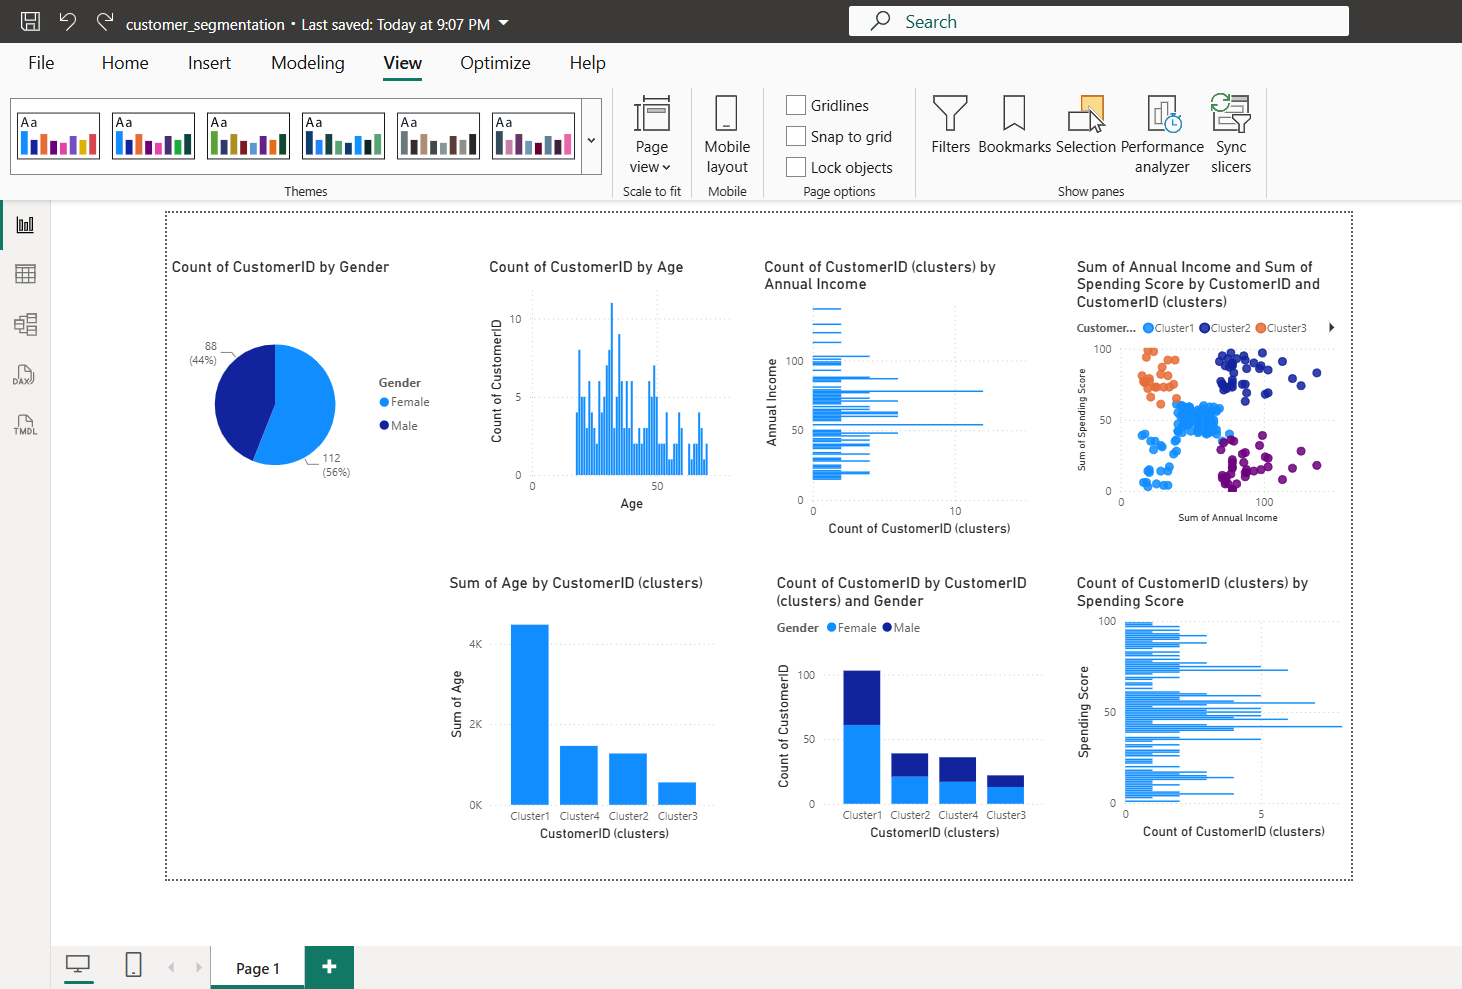

What the dashboard file says about the page in this screenshot:
{"tool":"powerbi","page":{"name":"Page 1","canvas":[1280,720],"ordinal":0},"visuals":[{"type":"clusteredColumnChart","fields":{"Category":["Mall_Customers.Age"],"Y":["CountNonNull(Mall_Customers.CustomerID)"]},"box":[343.8,47.5,280,280],"z":0},{"type":"pieChart","fields":{"Category":["Mall_Customers.Gender"],"Y":["CountNonNull(Mall_Customers.CustomerID)"]},"box":[0,47.5,300,301.2],"z":1},{"type":"scatterChart","fields":{"X":["Sum(Mall_Customers.Annual Income)"],"Y":["Sum(Mall_Customers.Spending Score)"],"Category":["Mall_Customers.CustomerID"],"Series":["Mall_Customers.CustomerID (clusters)"]},"box":[978.4,47.3,300,293.2],"z":2},{"type":"clusteredBarChart","fields":{"Y":["CountNonNull(Mall_Customers.CustomerID (clusters))"],"Category":["Mall_Customers.Annual Income"]},"box":[640.5,47.3,300,306.8],"z":3},{"type":"clusteredBarChart","fields":{"Y":["CountNonNull(Mall_Customers.CustomerID (clusters))"],"Category":["Mall_Customers.Spending Score"]},"box":[978.8,388.8,301.2,292.5],"z":4},{"type":"columnChart","fields":{"Category":["Mall_Customers.CustomerID (clusters)"],"Series":["Mall_Customers.Gender"],"Y":["CountNonNull(Mall_Customers.CustomerID)"]},"box":[654.1,389.2,300,293.2],"z":5},{"type":"columnChart","fields":{"Category":["Mall_Customers.CustomerID (clusters)"],"Y":["Sum(Mall_Customers.Age)"]},"box":[300,389.2,300,294.6],"z":6}]}

Visuals, with their boxes on the page's 1280x720 design canvas (x1, y1, x2, y2). These are canvas units, not pixel positions in the 1462x989 screenshot, which may show the page scaled, cropped or inside an application window:
clusteredColumnChart - Mall_Customers.Age x CountNonNull(Mall_Customers.CustomerID): box(344, 48, 624, 328)
pieChart - Mall_Customers.Gender x CountNonNull(Mall_Customers.CustomerID): box(0, 48, 300, 349)
scatterChart - Sum(Mall_Customers.Annual Income) x Sum(Mall_Customers.Spending Score): box(978, 47, 1278, 340)
clusteredBarChart - CountNonNull(Mall_Customers.CustomerID (clusters)) x Mall_Customers.Annual Income: box(640, 47, 940, 354)
clusteredBarChart - CountNonNull(Mall_Customers.CustomerID (clusters)) x Mall_Customers.Spending Score: box(979, 389, 1280, 681)
columnChart - Mall_Customers.CustomerID (clusters) x Mall_Customers.Gender: box(654, 389, 954, 682)
columnChart - Mall_Customers.CustomerID (clusters) x Sum(Mall_Customers.Age): box(300, 389, 600, 684)
